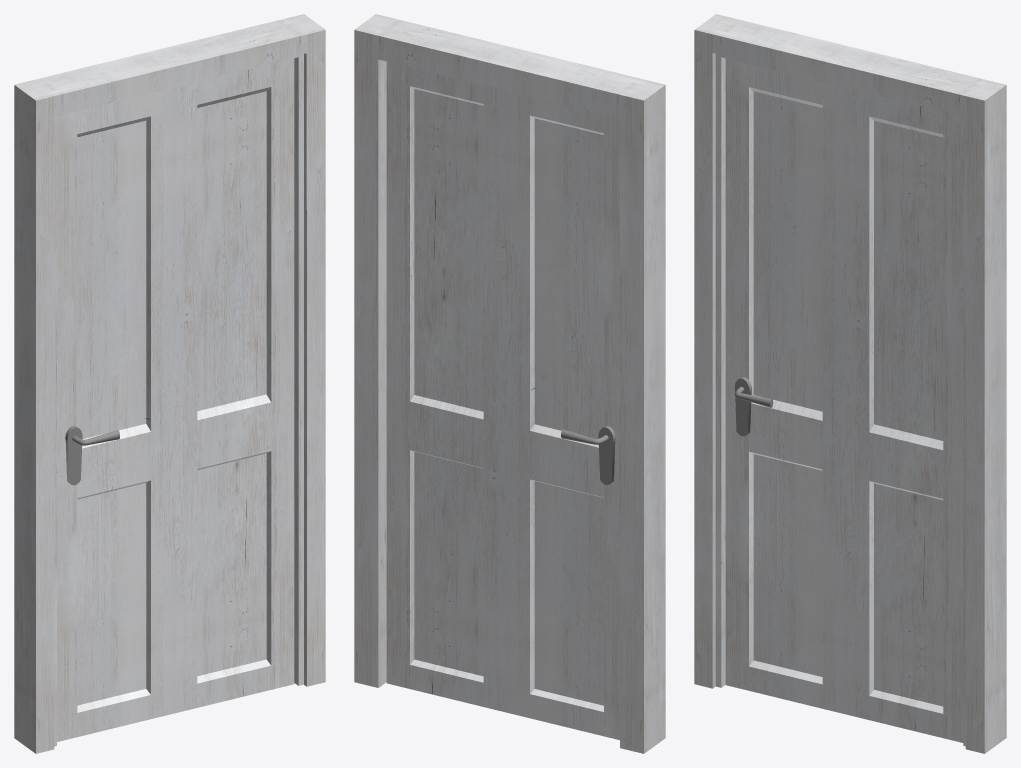
Rendered from Door 1.FBX.
3 renders of one model, left to right at view 1: azimuth 30°, elevation 25°; view 2: azimuth 150°, elevation 25°; view 3: azimuth 330°, elevation 25°, orthographic.
Visible parts, largest first — view 1: Door, door frame; view 2: Door, door frame; view 3: Door, door frame.
Boxes of the visible parts, <box> form: Door: <box>57,58,294,741</box>; door frame: <box>14,14,325,753</box>; Door: <box>386,61,619,740</box>; door frame: <box>354,14,665,753</box>; Door: <box>725,58,963,742</box>; door frame: <box>694,14,1006,753</box>.
Bounding box in the file's own units: 102 × 220 × 17.75.
2 materials, 1 textured.
